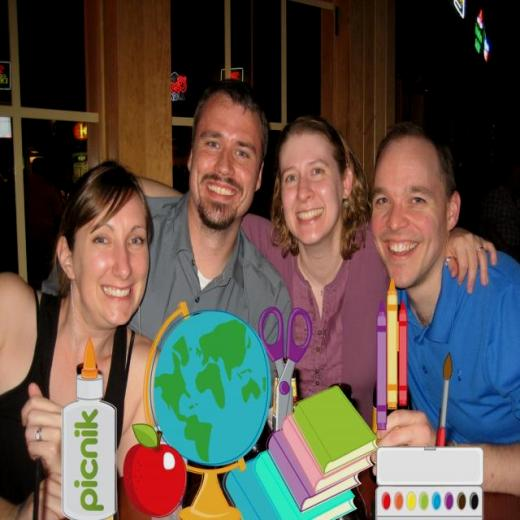Apple: (122, 431, 188, 520)
